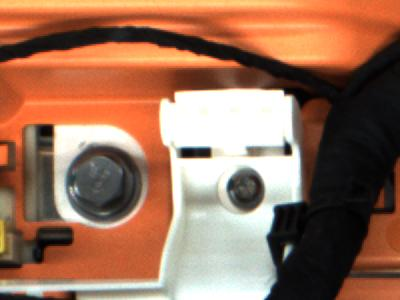nut_b: (62, 145, 160, 229)
